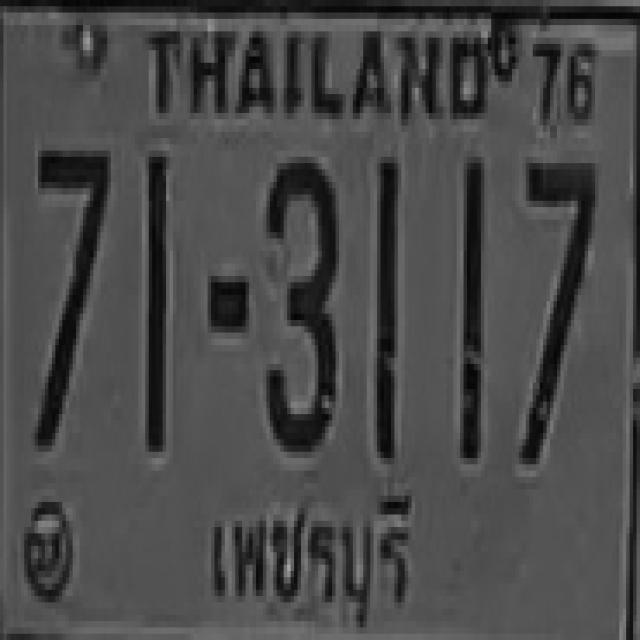1: (458, 157, 482, 458), (457, 157, 481, 458), (374, 154, 394, 455), (144, 150, 164, 446)
3: (263, 154, 335, 448)
7: (521, 157, 593, 464), (35, 144, 107, 446)
Phetchaburi: (200, 478, 423, 636)
